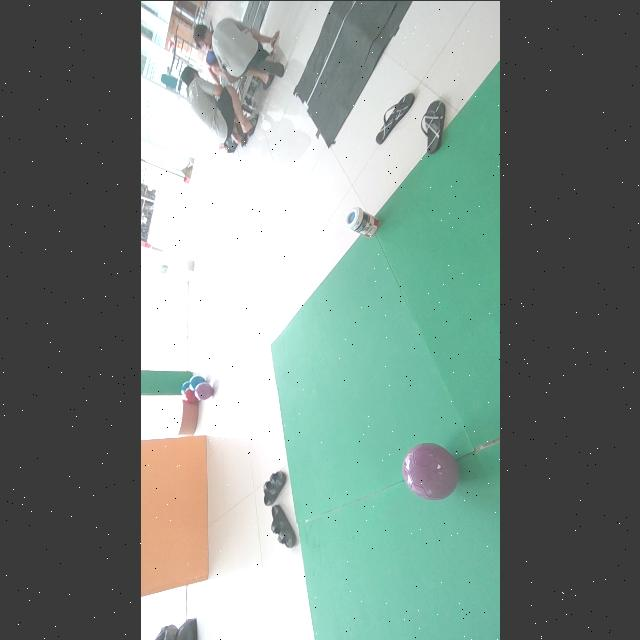B: (188, 375, 205, 390), (179, 380, 188, 394)
P: (402, 443, 459, 498), (194, 381, 212, 399)
R: (183, 388, 196, 402)
